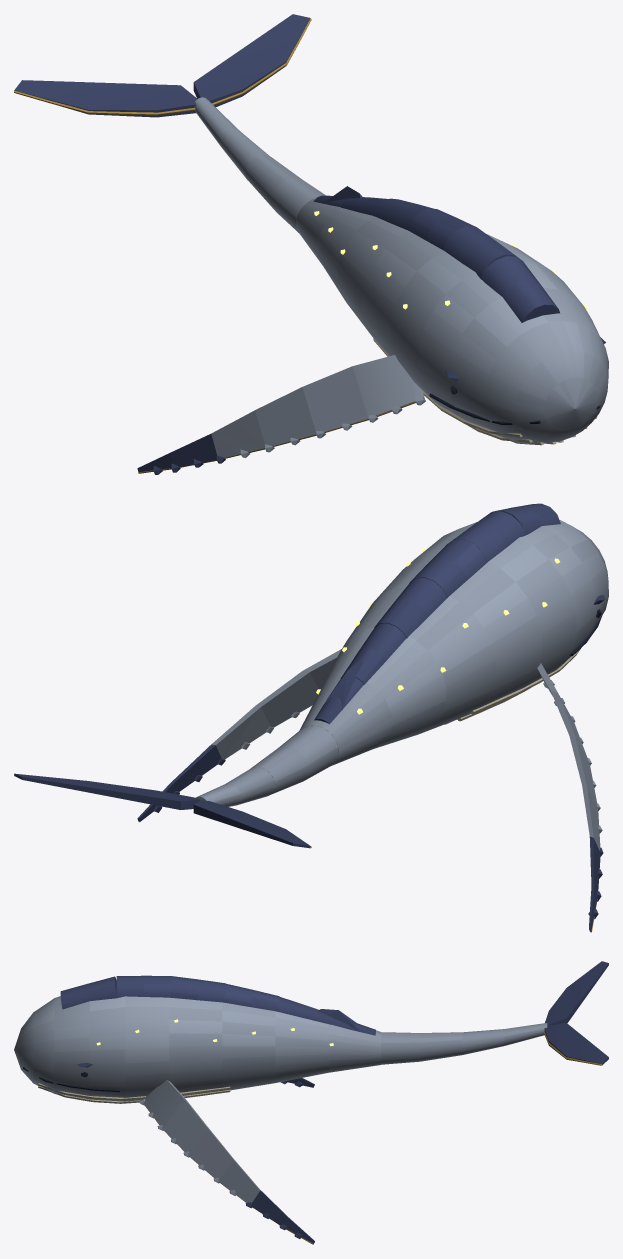
File: skywhale.glb
The picture shows the model from 3 angles, top to bottom: view 1: azimuth 30°, elevation 25°; view 2: azimuth 150°, elevation 25°; view 3: azimuth 270°, elevation 25°; orthographic projection. The views are drawn at different scales.
Visible parts, largest first — view 1: body, fluke, finR, finTipR, tail1, tail2; view 2: body, fluke, tail1, finTipL, finL, tail2, finR, finTipR; view 3: body, finL, fluke, tail1, finTipL, tail2.
Part boxes in pixels (left/top/right/bottom): body: left=296, top=186, right=608, bottom=445; fluke: left=14, top=14, right=311, bottom=117; finR: left=255, top=355, right=425, bottom=446; finTipR: left=137, top=410, right=274, bottom=474; tail1: left=245, top=155, right=325, bottom=232; tail2: left=195, top=97, right=269, bottom=180; body: left=299, top=503, right=608, bottom=765; fluke: left=14, top=773, right=311, bottom=848; tail1: left=250, top=725, right=338, bottom=794; finTipL: left=137, top=706, right=273, bottom=822; finL: left=255, top=649, right=341, bottom=727; tail2: left=195, top=767, right=275, bottom=806; finR: left=537, top=663, right=597, bottom=806; finTipR: left=582, top=785, right=603, bottom=932; body: left=14, top=975, right=381, bottom=1103; finL: left=139, top=1080, right=233, bottom=1179; fluke: left=544, top=961, right=608, bottom=1065; tail1: left=381, top=1032, right=462, bottom=1064; finTipL: left=213, top=1158, right=314, bottom=1244; tail2: left=462, top=1023, right=547, bottom=1054.
Size of the model in its own units: 21.11 by 11.79 by 33.7.
